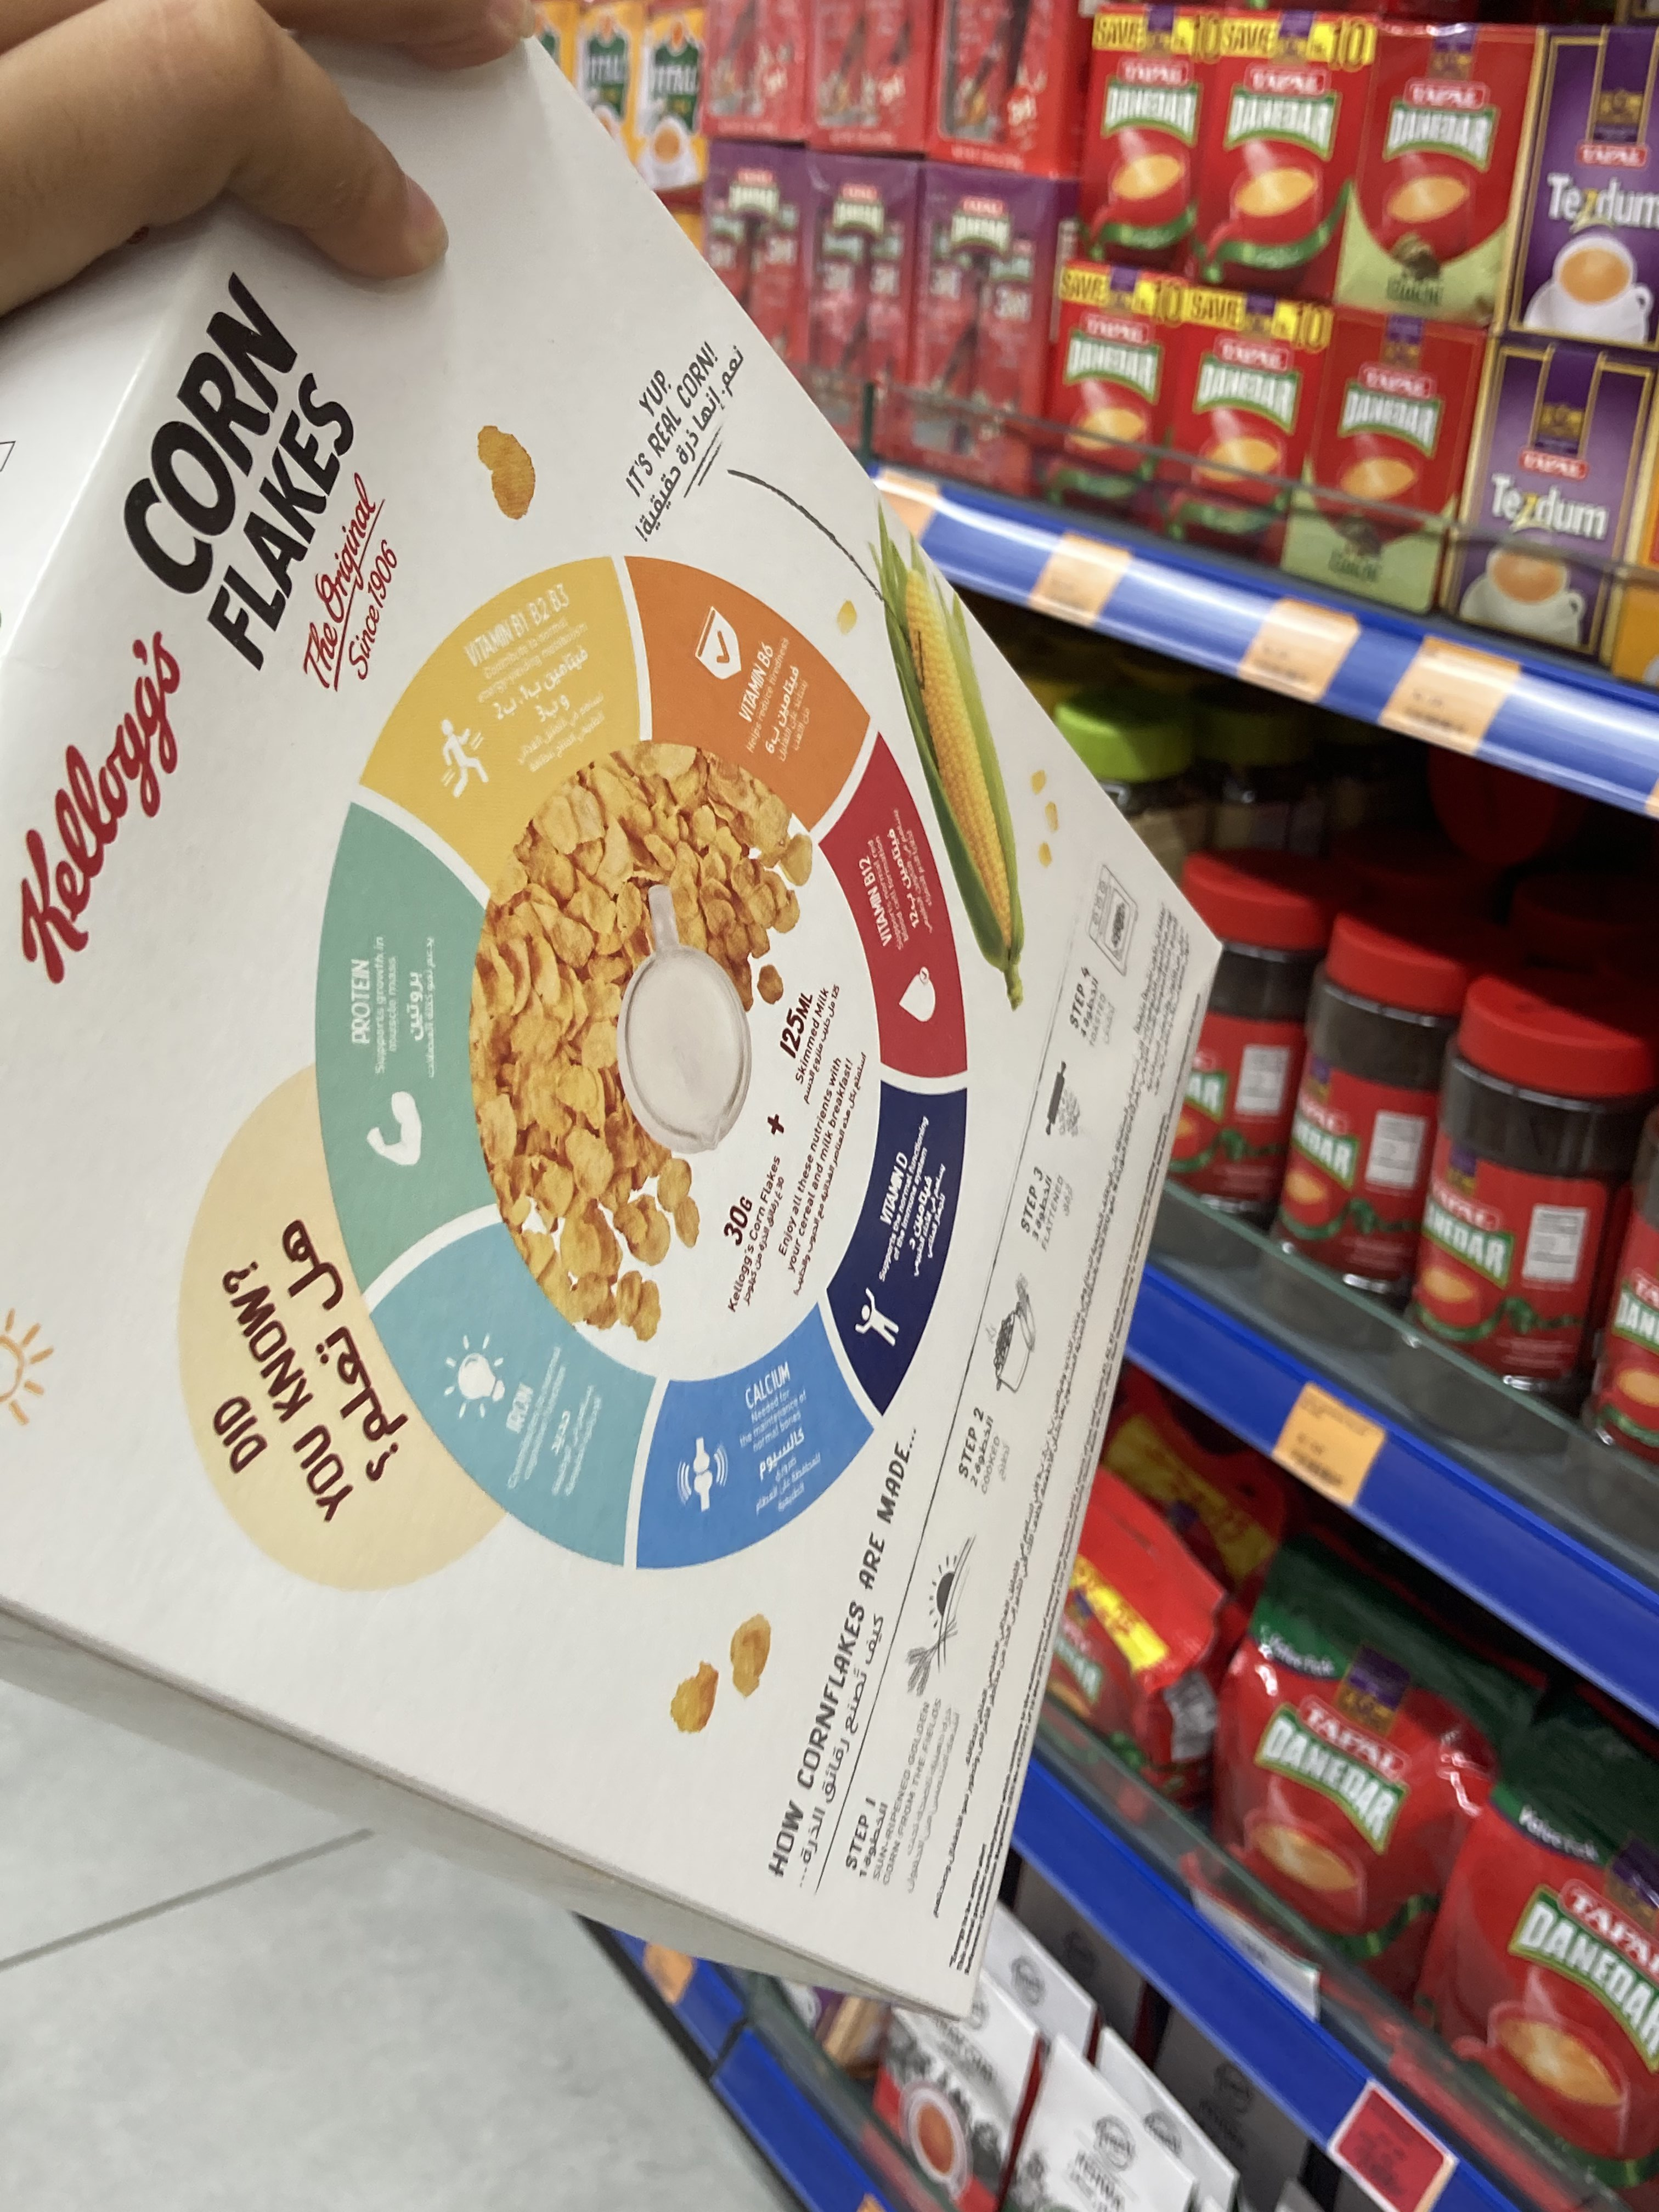Kellogg's Corn Flakes: (5, 9, 1225, 2017)
